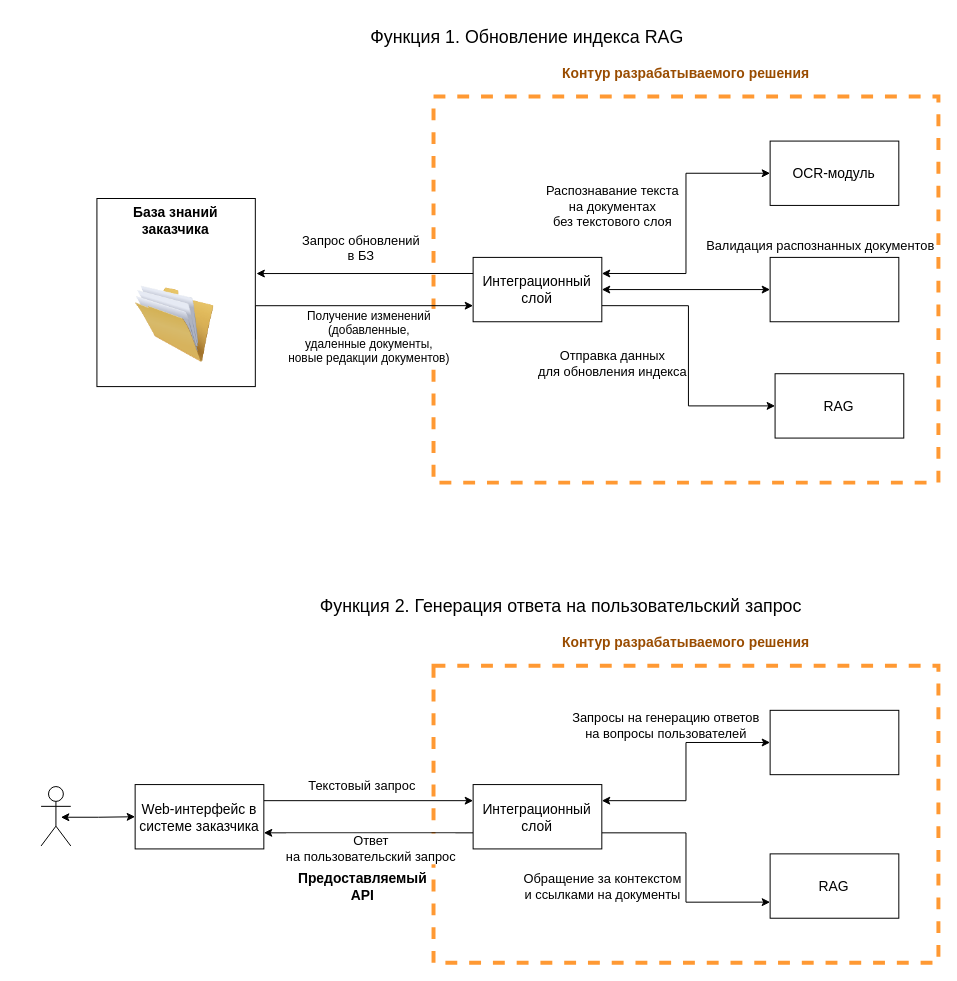
The diagram is 957 pixels wide and 981 high, and some of its shapes have lost their labels. The box of each missing label's shape, as (x1, y1, x2, y2) in pixels:
Генеративный ИИ: (769, 256, 899, 322)
Генеративный ИИ (LLM): (769, 709, 899, 775)
Пользователь: (40, 786, 71, 846)
